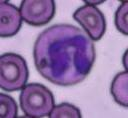N: (34, 23, 95, 86)
